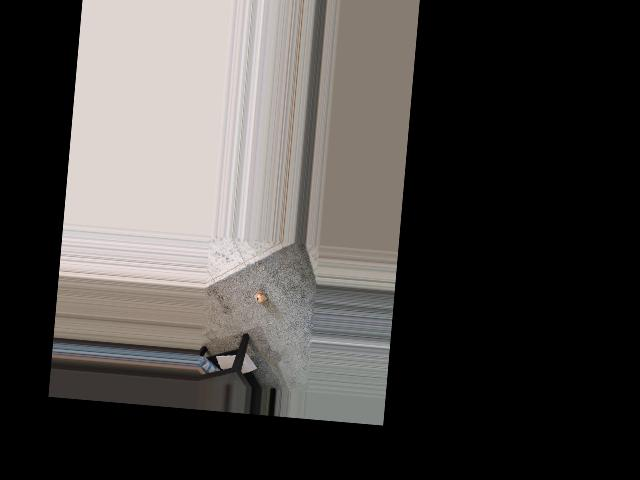onion: (253, 288, 271, 305)
